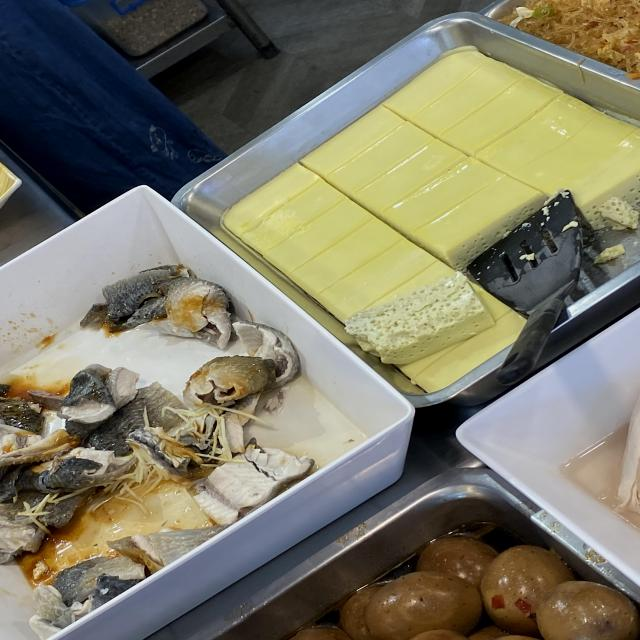steamed egg: (311, 147, 469, 300)
